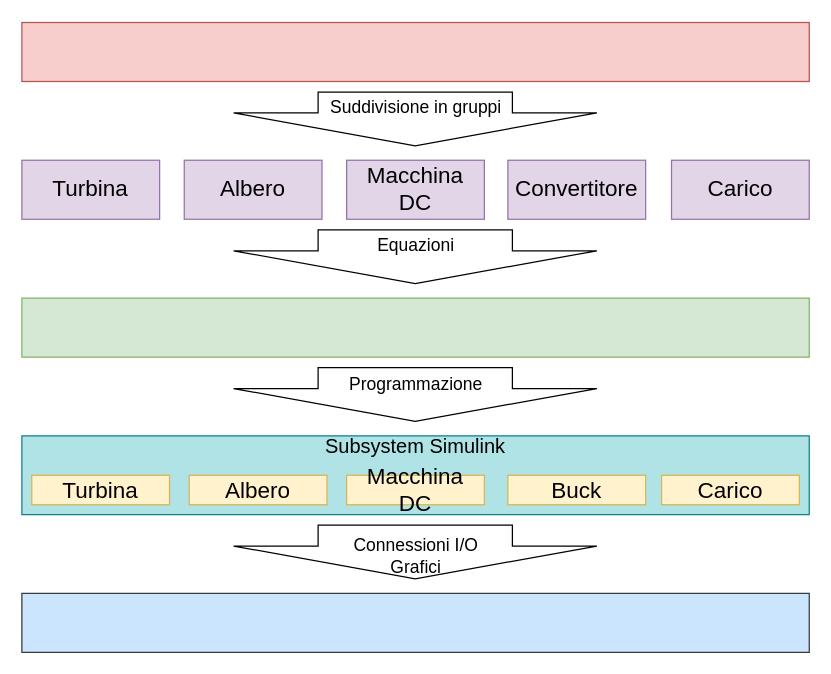
This 831x674 diagram has some shape labels left out. Each missing label, with the centre of its shape:
Modelli matematici: point (415, 327)
Modello fisico: point (415, 51)
Modello Simulink: point (415, 622)
